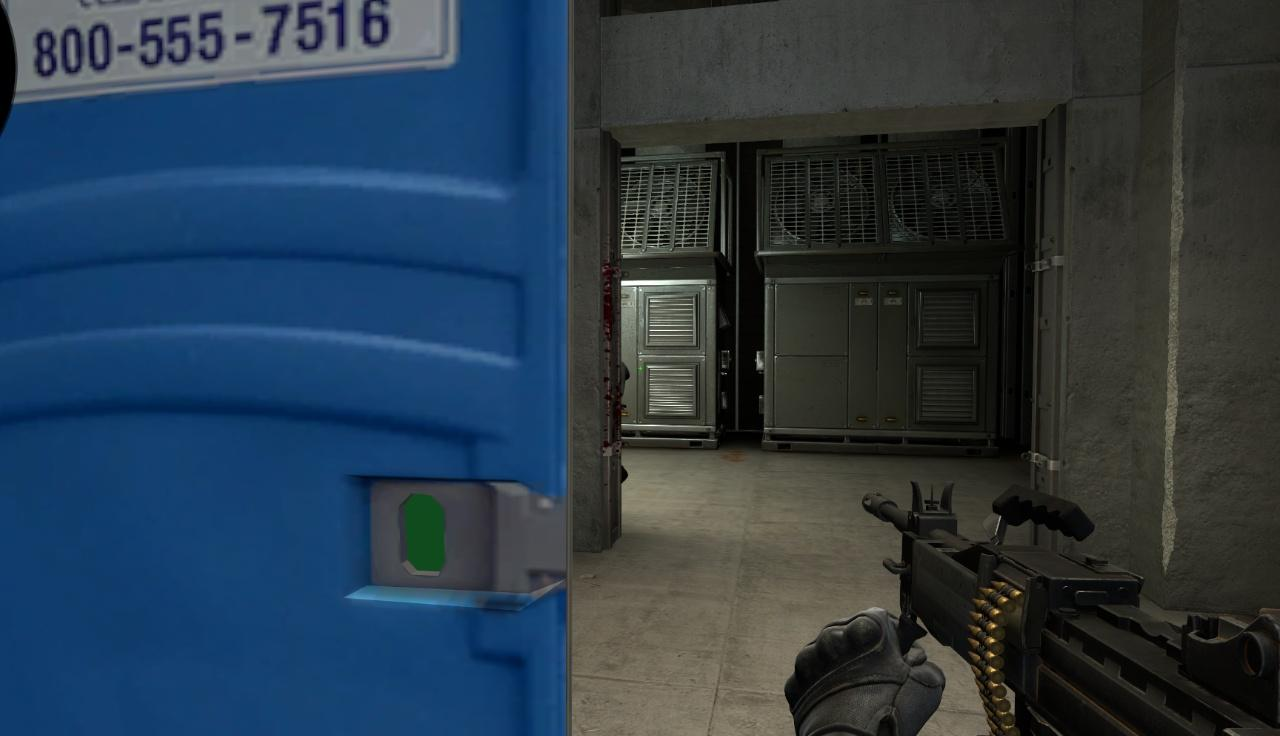rifle: (857, 488, 1280, 736)
